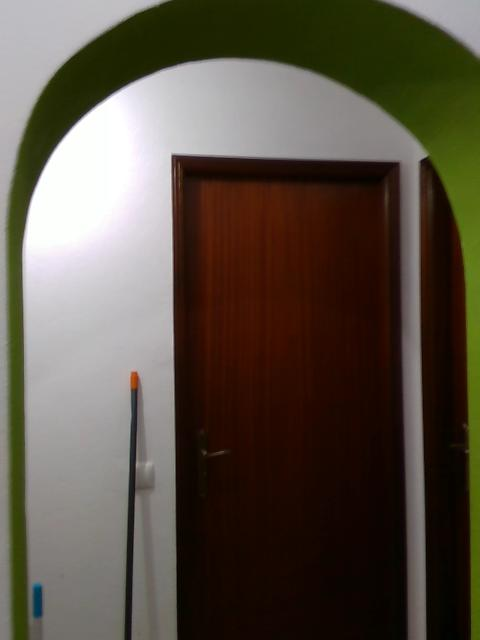door: (190, 175, 384, 639)
